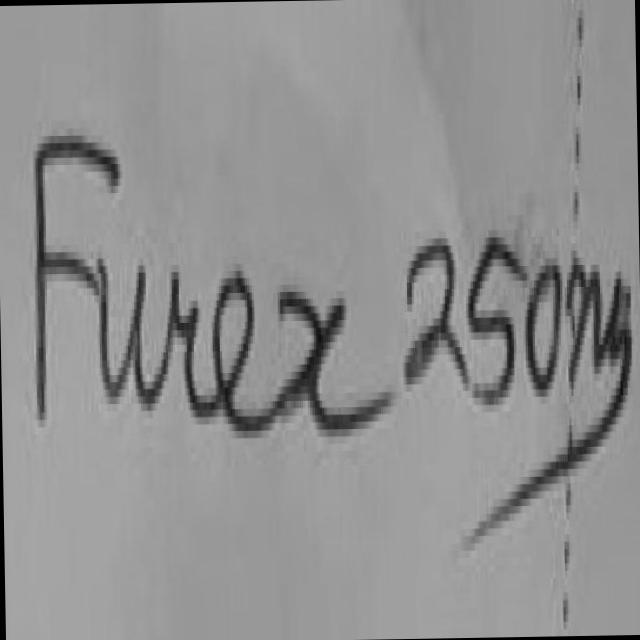0: (527, 265, 561, 392)
2: (409, 245, 469, 384)
5: (467, 234, 526, 401)
F: (35, 136, 116, 416)
e: (212, 278, 277, 436)
g: (468, 295, 633, 547)
m: (569, 252, 623, 392)
r: (141, 262, 214, 424)
u: (98, 262, 141, 400)
x: (274, 289, 381, 432)
